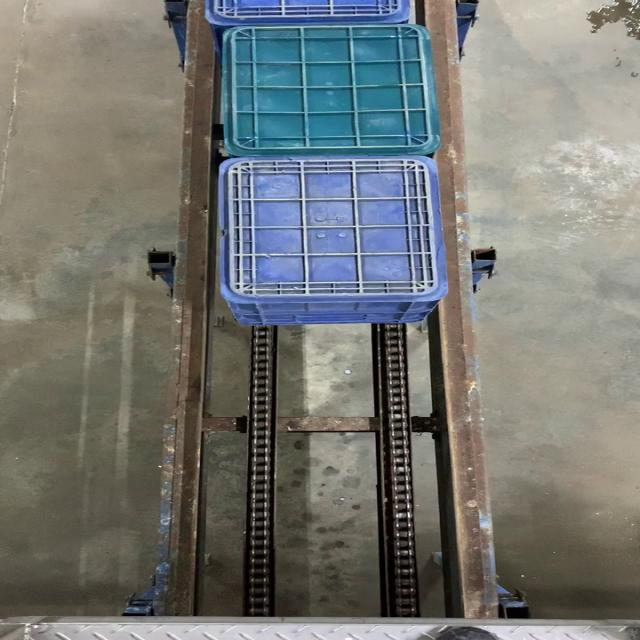Box: (218, 156, 444, 302), (218, 26, 442, 156)
